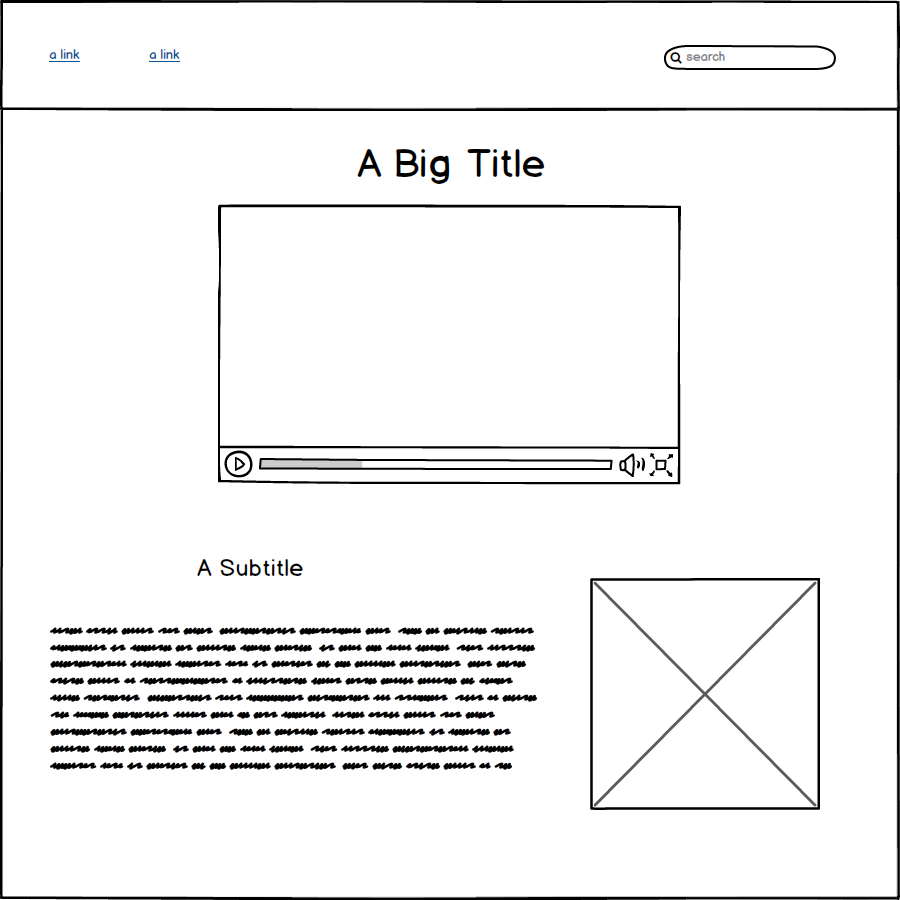h1: (341, 140, 553, 189), (179, 549, 346, 595)
image: (583, 570, 827, 818)
navlink: (135, 43, 192, 69), (45, 41, 89, 70)
p: (33, 614, 555, 785)
search: (652, 29, 846, 81)
video: (204, 197, 698, 492)
